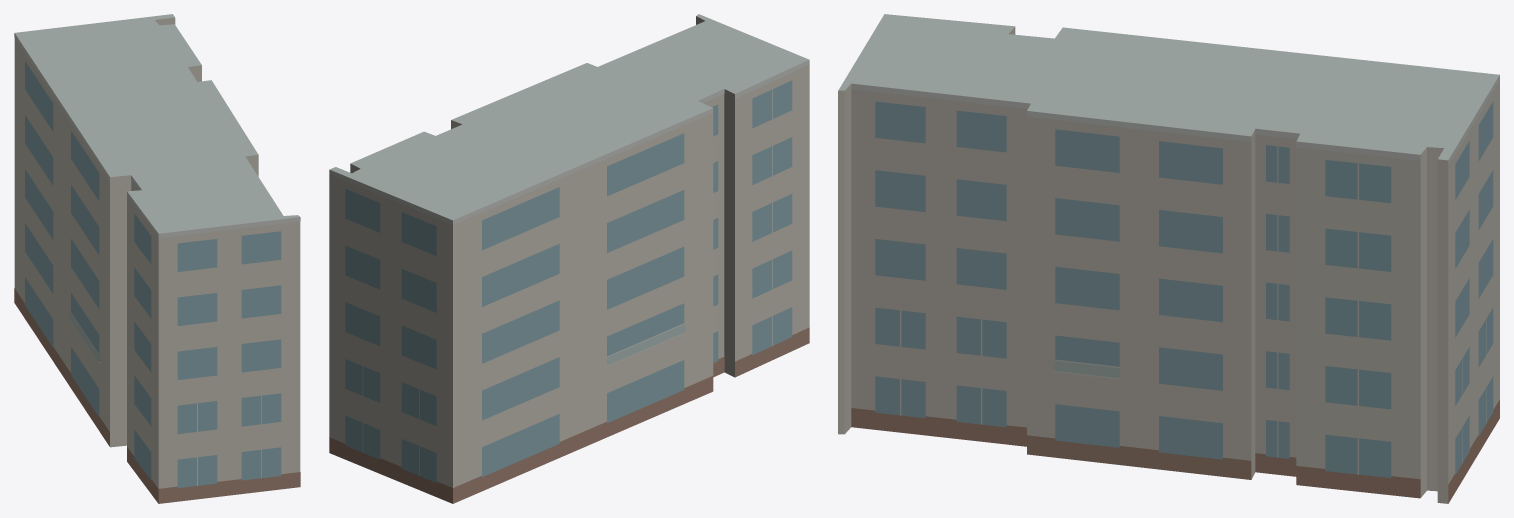
The model's file is survey-upis-32598930.glb.
The picture shows the model from 3 angles, left to right: view 1: azimuth 30°, elevation 25°; view 2: azimuth 150°, elevation 25°; view 3: azimuth 270°, elevation 25°; orthographic projection. The views are drawn at different scales.
Parts seen in each view (by area): view 1: survey-upis-32598930.tmp; view 2: survey-upis-32598930.tmp; view 3: survey-upis-32598930.tmp.
Part boxes in pixels (box(x1,y1,x2,y2)): survey-upis-32598930.tmp: box(14, 14, 300, 503); survey-upis-32598930.tmp: box(329, 14, 809, 503); survey-upis-32598930.tmp: box(838, 14, 1499, 503).
Size of the model in its own units: 13.34 by 14.6 by 25.49.
